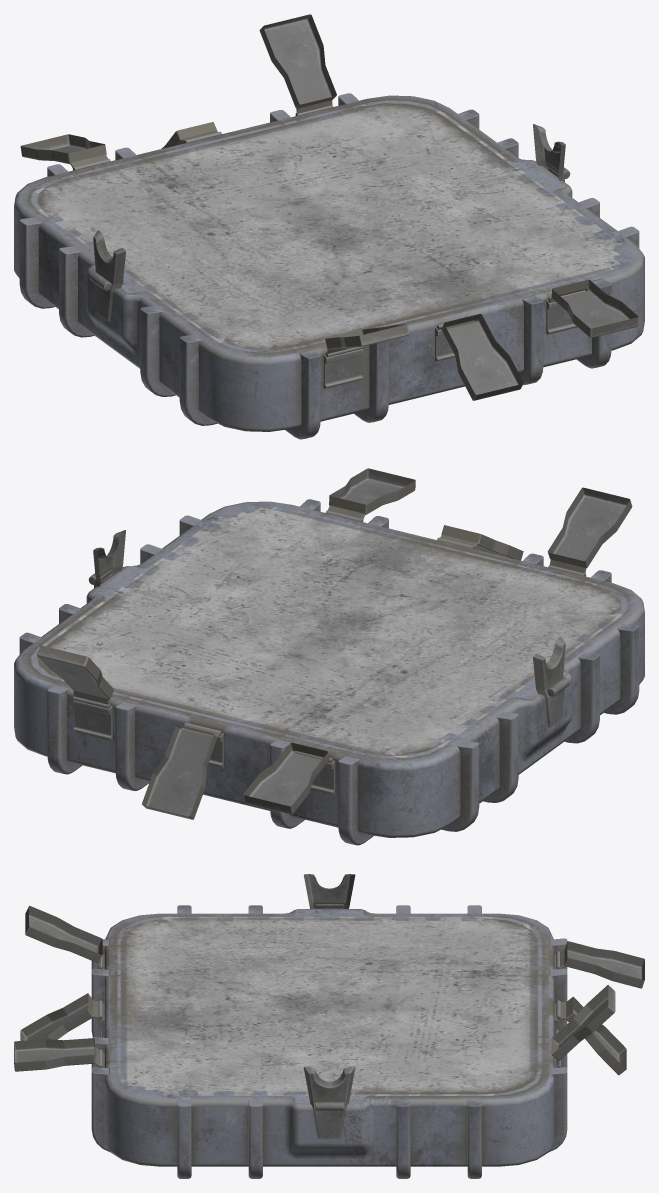
File: SM_Crate_Top.glb
3 renders of one model, top to bottom at view 1: azimuth 30°, elevation 25°; view 2: azimuth 150°, elevation 25°; view 3: azimuth 270°, elevation 25°, orthographic. The views are drawn at different scales.
Visible parts, largest first — view 1: SM_Crate_Top; view 2: SM_Crate_Top; view 3: SM_Crate_Top.
Part boxes in pixels (x1=…): SM_Crate_Top: x1=14, y1=14, x2=644, y2=439; SM_Crate_Top: x1=14, y1=468, x2=644, y2=845; SM_Crate_Top: x1=14, y1=874, x2=644, y2=1178.
Bounding box in the file's own units: 1.03 × 0.3279 × 1.33.
Materials: 1 (1 with a texture image).
